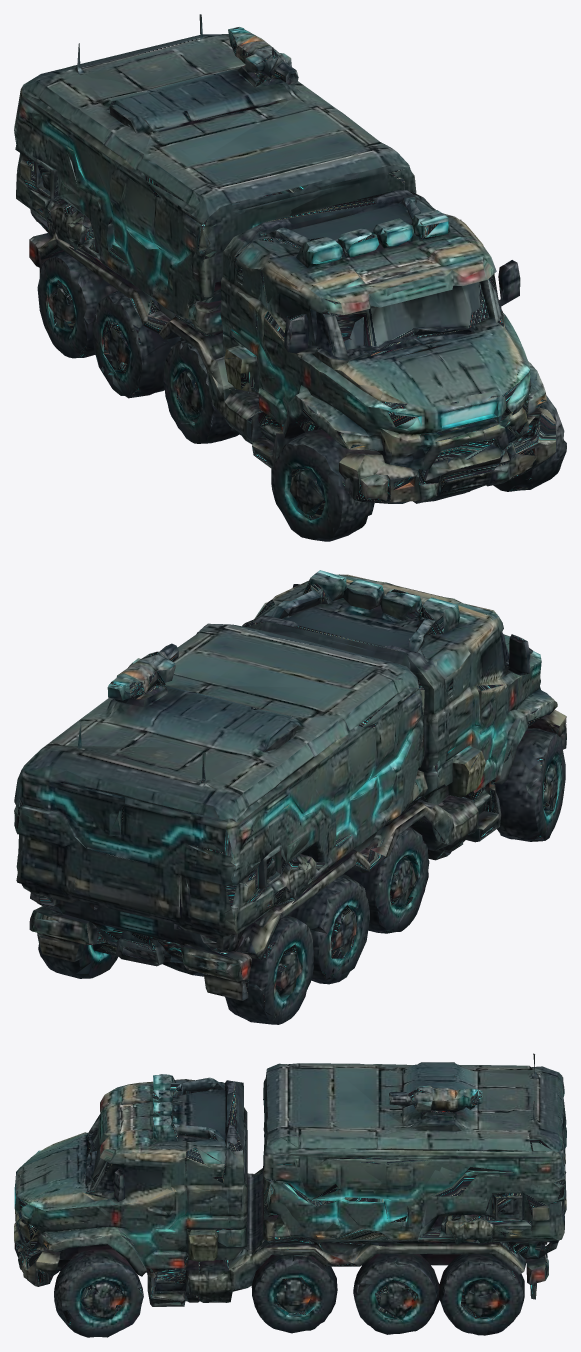
The model's file is vehicle_armored_truck.glb.
3 views of the same model, one above another, from view 1: azimuth 30°, elevation 25°; view 2: azimuth 150°, elevation 25°; view 3: azimuth 270°, elevation 25° (orthographic). The views are drawn at different scales.
Visible parts, largest first — view 1: turn, mesh_lod; view 2: turn, mesh_lod; view 3: turn, mesh_lod.
Boxes of the visible parts, x1,y1,x2,y2 form: turn: [14, 14, 566, 541]; mesh_lod: [14, 27, 566, 537]; turn: [14, 570, 566, 1024]; mesh_lod: [14, 570, 566, 1019]; turn: [14, 1053, 566, 1337]; mesh_lod: [14, 1063, 566, 1336].
Size of the model in its own units: 3.65 by 4 by 8.71.
Materials: 1 (1 with a texture image).
